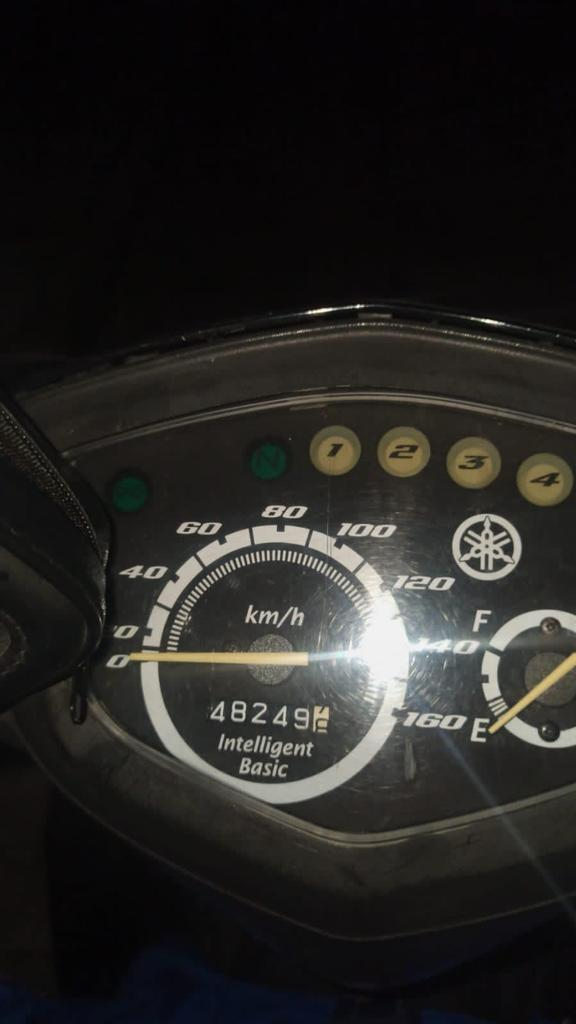2: (251, 702, 267, 723)
4: (209, 700, 225, 722), (272, 704, 287, 727)
8: (230, 700, 247, 722), (315, 717, 329, 736)
9: (293, 707, 309, 730)
odometer: (203, 695, 331, 734)
